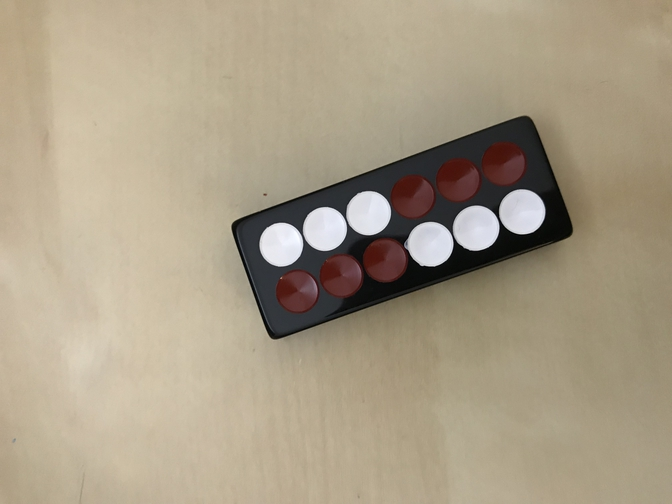heaven: (231, 115, 574, 340)
